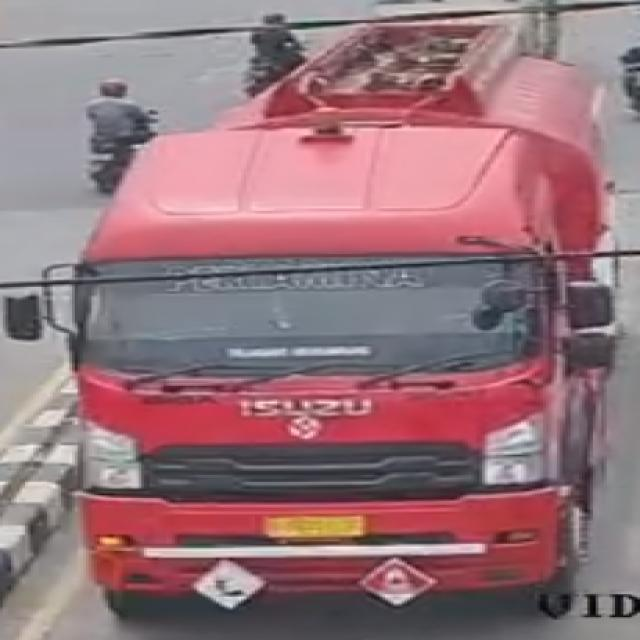truck: (49, 21, 603, 613)
